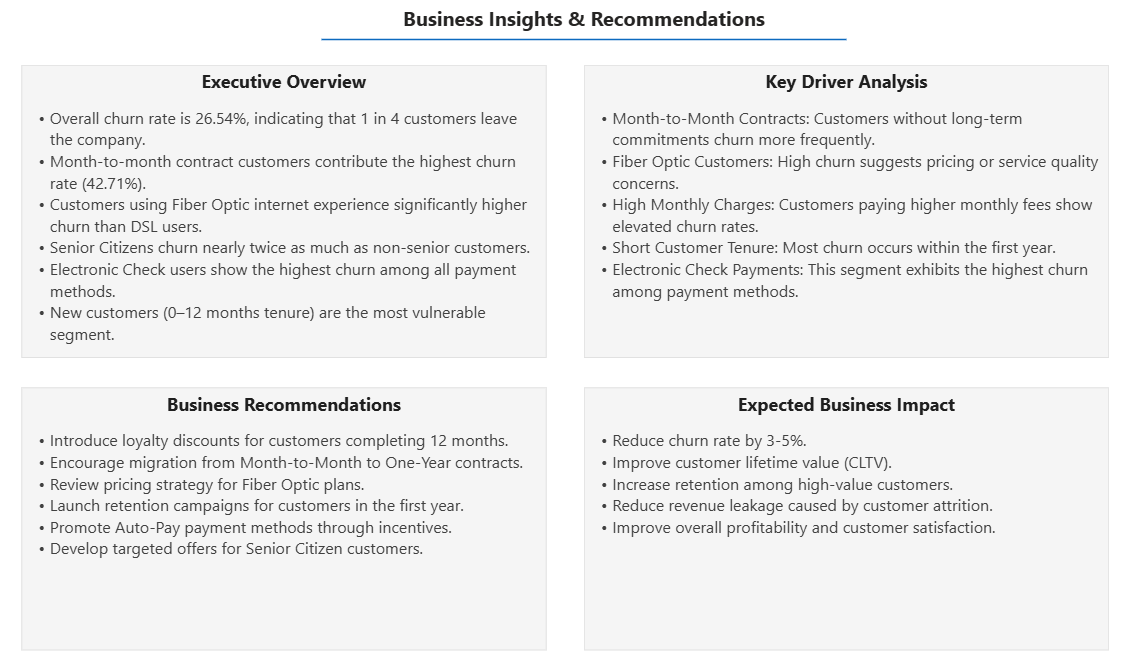

What the dashboard file says about the page in this screenshot:
{"tool":"powerbi","page":{"name":"Business Insights & Recommendations","canvas":[1600,900],"ordinal":4},"visuals":[{"type":"textbox","box":[450,15,700,50],"z":0},{"type":"textbox","box":[150,205,300,300],"z":1},{"type":"shape","box":[450,60,700,12],"z":2},{"type":"textbox","box":[50,100,700,390],"z":3},{"type":"textbox","box":[800,100,700,390],"z":4},{"type":"textbox","box":[50,530,700,350],"z":5},{"type":"textbox","box":[800,530,700,350],"z":6}]}

Visuals, with their boxes on the page's 1600x900 design canvas (x1, y1, x2, y2). These are canvas units, not pixel positions in the 1126x660 screenshot, which may show the page scaled, cropped or inside an application window:
textbox: box(450, 15, 1150, 65)
textbox: box(150, 205, 450, 505)
shape: box(450, 60, 1150, 72)
textbox: box(50, 100, 750, 490)
textbox: box(800, 100, 1500, 490)
textbox: box(50, 530, 750, 880)
textbox: box(800, 530, 1500, 880)
